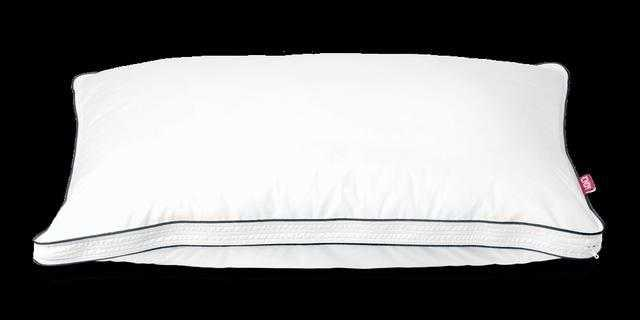pillow: (31, 51, 605, 269)
